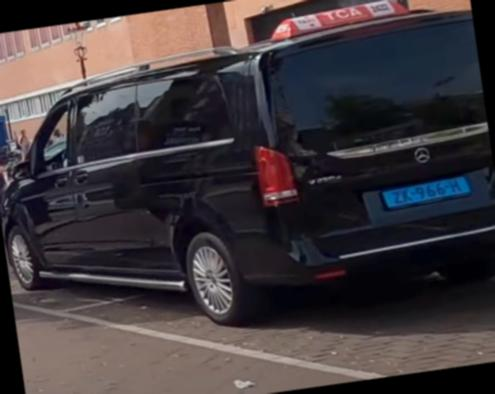license-plate: (379, 175, 475, 211)
